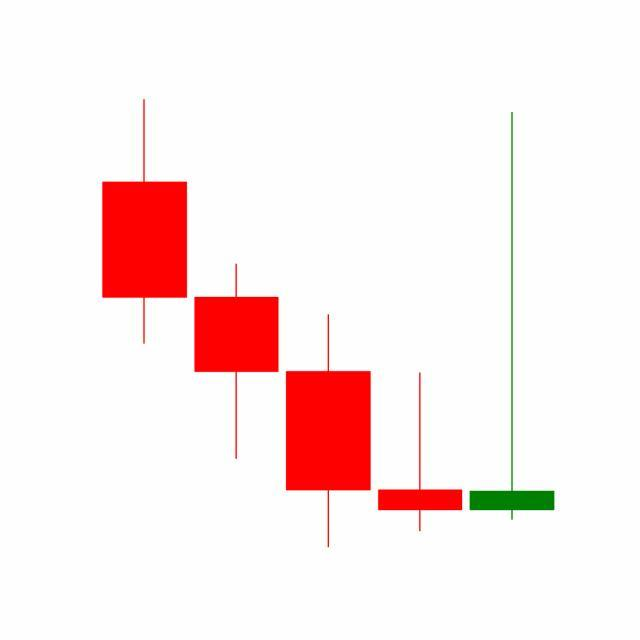Gravestone Doji: (374, 371, 468, 535)
